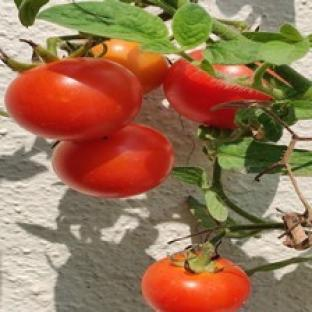Tomato: (6, 58, 142, 140), (52, 124, 174, 197), (163, 59, 270, 128), (141, 258, 250, 311), (104, 39, 168, 93)
